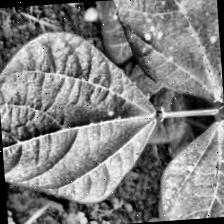Bean Rust: (0, 24, 165, 207), (106, 0, 223, 108), (159, 118, 224, 220)
